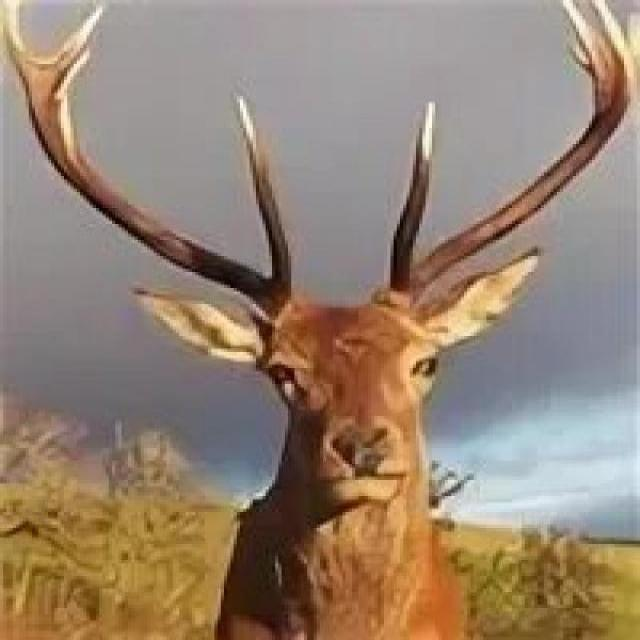deer: (59, 64, 640, 640)
